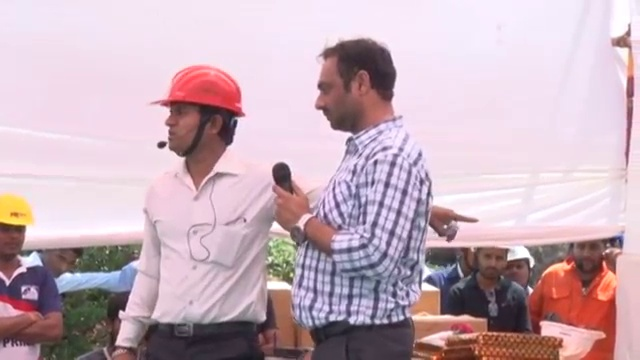helmet: (150, 68, 250, 119), (538, 318, 606, 359), (0, 203, 34, 230), (505, 248, 534, 269)
helmet_off: (314, 39, 406, 129), (105, 291, 155, 355), (470, 241, 512, 284), (568, 236, 609, 276), (35, 248, 81, 283)
helmet_on: (149, 67, 246, 178), (0, 203, 36, 260), (507, 248, 534, 283)
person: (271, 33, 438, 360), (112, 67, 282, 360), (536, 236, 623, 360), (0, 207, 67, 356), (445, 245, 533, 328)
